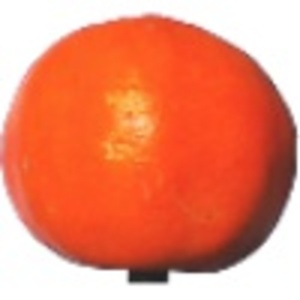tangerina: (1, 11, 299, 282)
